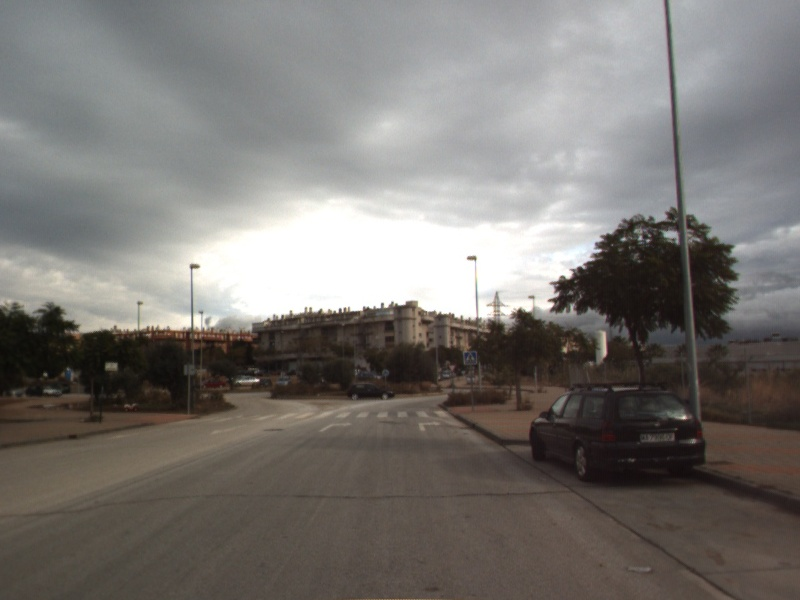RIGHT: (317, 419, 354, 434), (416, 419, 443, 433)
